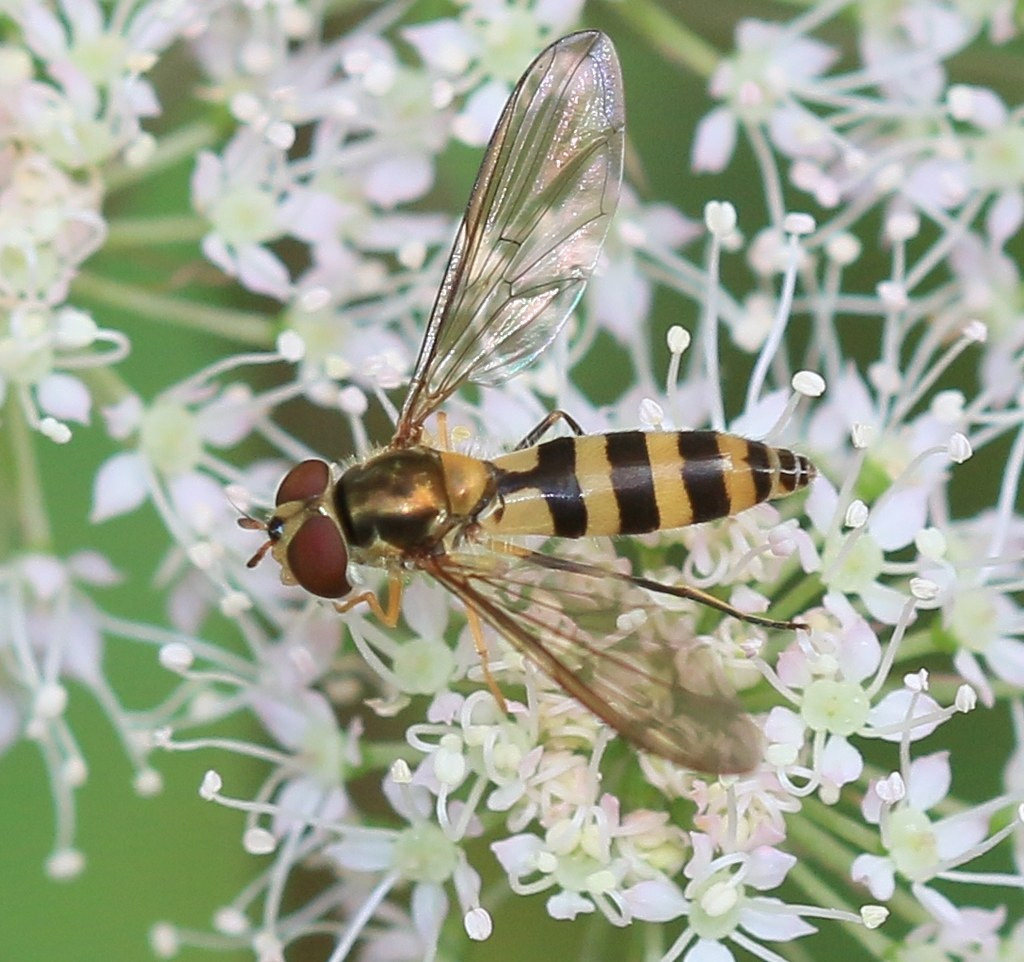bee: (189, 60, 823, 742)
insect: (0, 0, 1023, 961)
